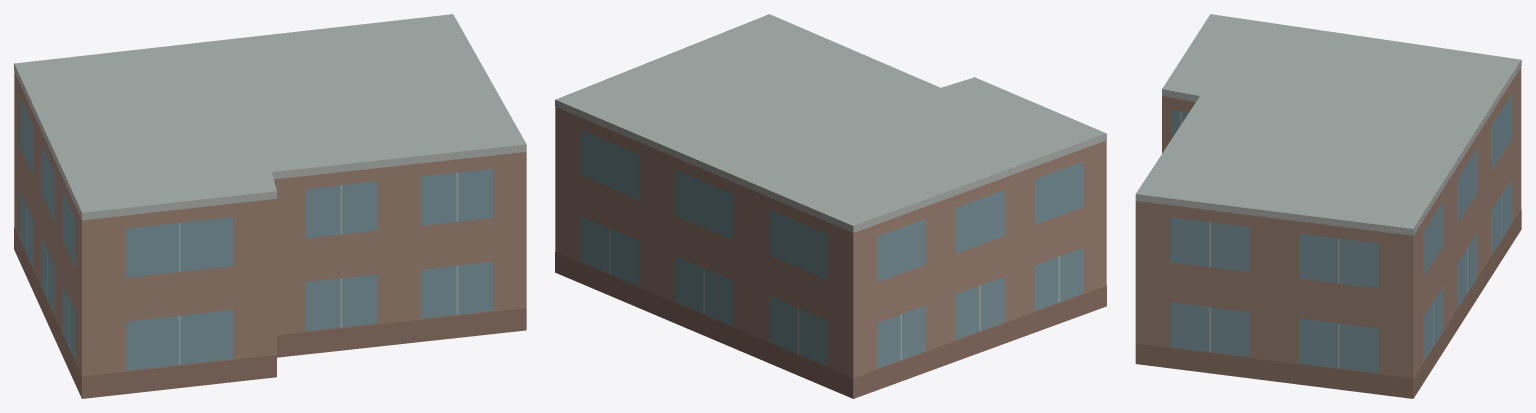
Rendered from survey-upis-32499666.glb.
3 views of the same model, side by side, from view 1: azimuth 30°, elevation 25°; view 2: azimuth 150°, elevation 25°; view 3: azimuth 270°, elevation 25° (orthographic). The views are drawn at different scales.
Visible parts, largest first — view 1: survey-upis-32499666.tmp; view 2: survey-upis-32499666.tmp; view 3: survey-upis-32499666.tmp.
Boxes of the visible parts, box(x1,y1,x2,y2) form: survey-upis-32499666.tmp: box(14, 14, 526, 398); survey-upis-32499666.tmp: box(555, 14, 1106, 398); survey-upis-32499666.tmp: box(1135, 14, 1521, 398).
Bounding box in the file's own units: 16.57 × 6.1 × 12.57.
